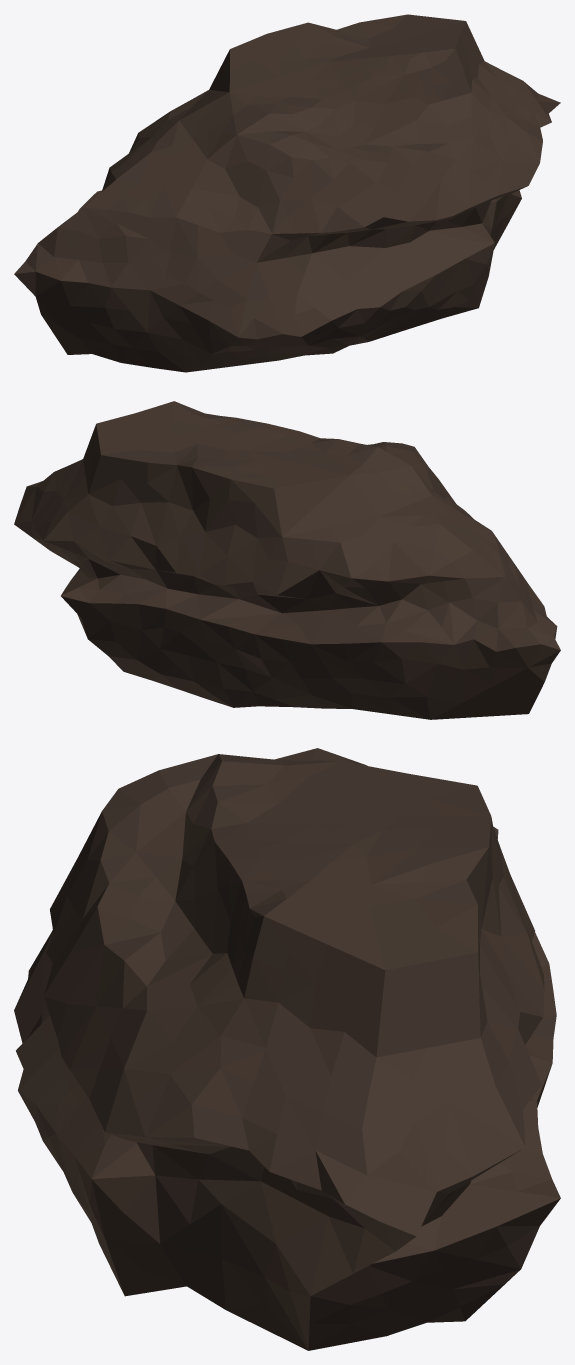
The model's file is Rock.fbx.
3 renders of one model, top to bottom at view 1: azimuth 30°, elevation 25°; view 2: azimuth 150°, elevation 25°; view 3: azimuth 270°, elevation 25°, orthographic. The views are drawn at different scales.
Visible parts, largest first — view 1: Cube; view 2: Cube; view 3: Cube.
Part boxes in pixels (box(x1,y1,x2,y2)): Cube: box(14, 14, 560, 372); Cube: box(14, 401, 560, 719); Cube: box(14, 748, 560, 1350).
Bounding box in the file's own units: 4.92 × 2.05 × 2.44.
